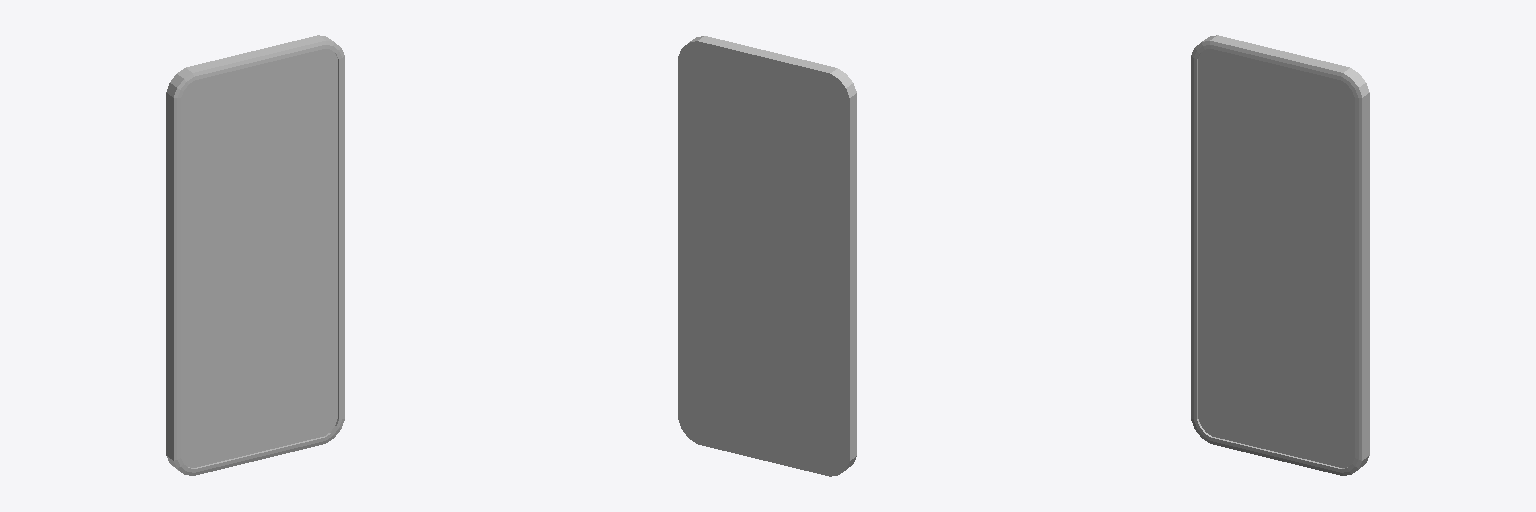
The model's file is phone.obj.
The picture shows the model from 3 angles: view 1: azimuth 30°, elevation 25°; view 2: azimuth 150°, elevation 25°; view 3: azimuth 330°, elevation 25°; orthographic projection.
Visible parts, largest first — view 1: ekran, obudowa; view 2: obudowa; view 3: ekran, obudowa.
Part boxes in pixels (x1,y1,x2,y2): ekran: (181, 49, 337, 467); obudowa: (166, 35, 344, 475); obudowa: (678, 36, 856, 476); ekran: (1198, 49, 1354, 467); obudowa: (1191, 35, 1369, 475).
Size of the model in its own units: 9.86 by 22.16 by 0.8052.